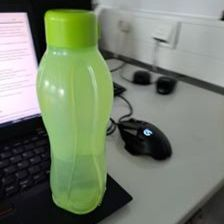bottle: (34, 7, 109, 215)
